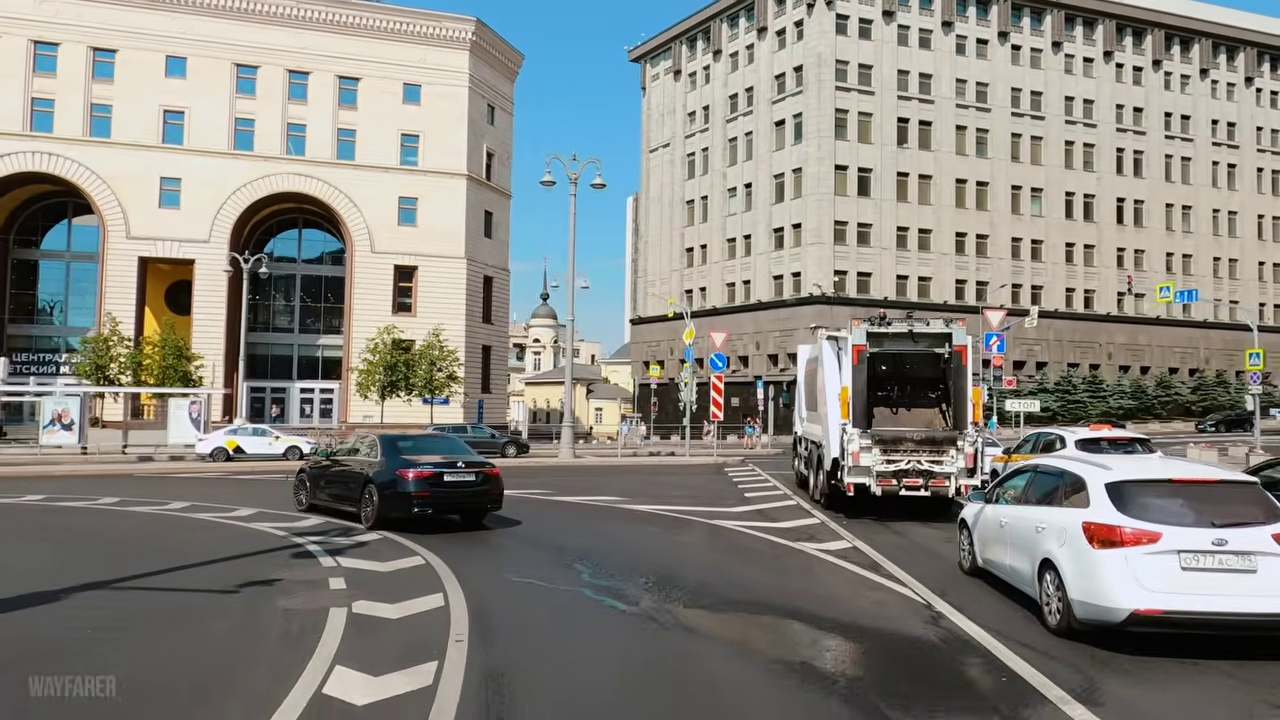apagada: (542, 150, 609, 207)
